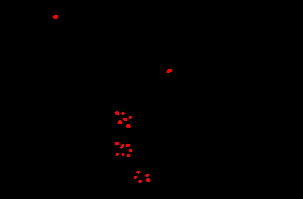Target: (53, 15, 58, 19), (167, 69, 172, 73), (126, 124, 131, 128), (120, 144, 124, 149), (115, 111, 119, 115), (118, 120, 122, 124), (146, 178, 150, 182), (121, 112, 125, 115), (123, 118, 127, 121), (115, 142, 119, 145), (126, 144, 130, 147), (136, 171, 140, 174), (145, 174, 149, 177), (138, 180, 142, 183), (129, 116, 132, 119), (129, 149, 132, 152), (116, 153, 119, 156), (127, 154, 130, 157), (134, 176, 137, 179), (122, 153, 124, 156)
